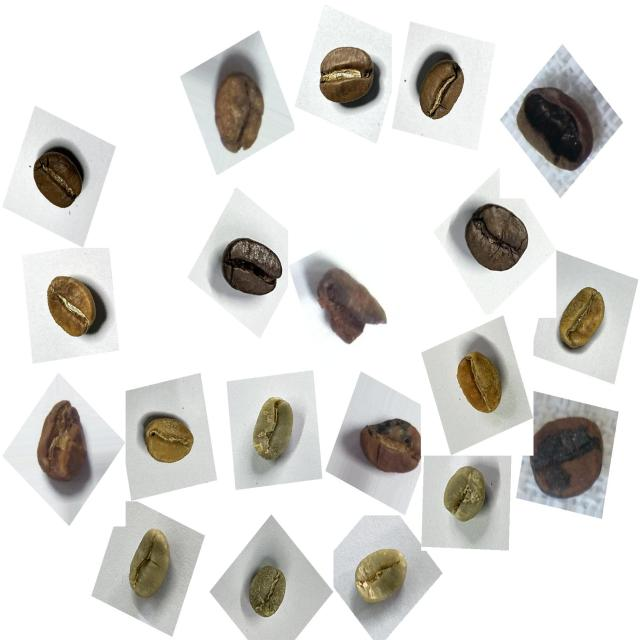bad: (508, 69, 604, 182), (520, 400, 615, 512), (198, 53, 276, 161), (26, 388, 101, 499), (308, 255, 392, 353), (348, 401, 429, 489)
dark: (454, 191, 538, 285), (213, 226, 293, 314)
green: (338, 533, 416, 620), (115, 517, 183, 612), (241, 384, 307, 477), (432, 457, 497, 538), (238, 555, 299, 631)
light: (34, 260, 110, 348), (443, 337, 512, 426), (134, 394, 207, 478), (550, 278, 619, 364)
medium: (308, 31, 388, 122), (407, 44, 479, 132), (23, 136, 94, 222)
